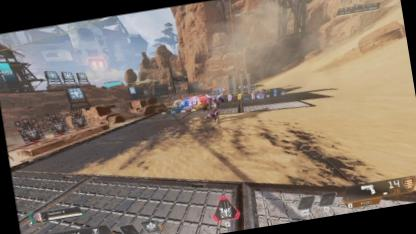Target: (201, 94, 222, 125)
